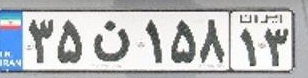character: (86, 14, 133, 65), (198, 13, 230, 66), (133, 15, 166, 65), (166, 15, 198, 66), (23, 16, 55, 66), (56, 15, 86, 65), (262, 27, 290, 67), (237, 26, 261, 68)
